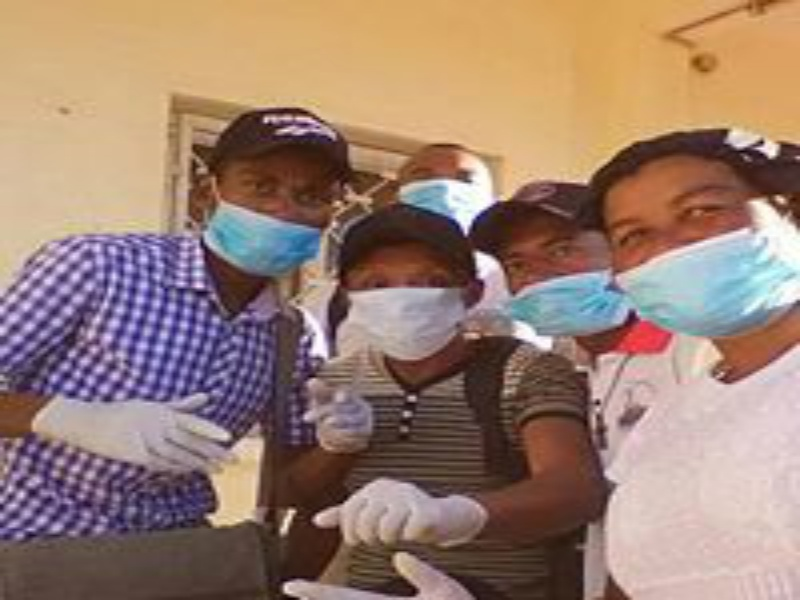ManaoArotava: (590, 141, 800, 363), (325, 213, 490, 379), (188, 116, 339, 296), (470, 191, 629, 341)
